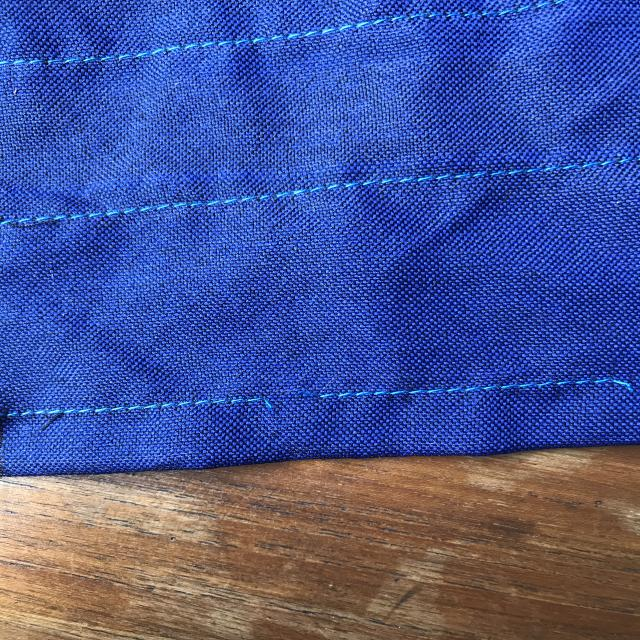broken: (240, 376, 350, 418)
good: (197, 183, 328, 220)
